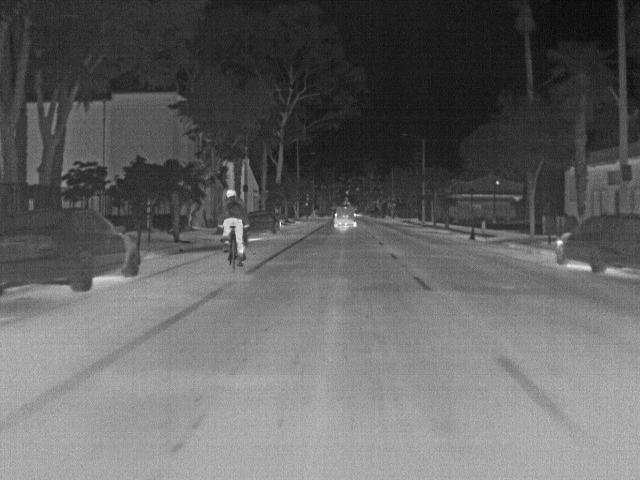car: (1, 206, 142, 292), (553, 212, 640, 276), (247, 210, 279, 235), (333, 206, 357, 232)
person: (224, 188, 246, 259)
